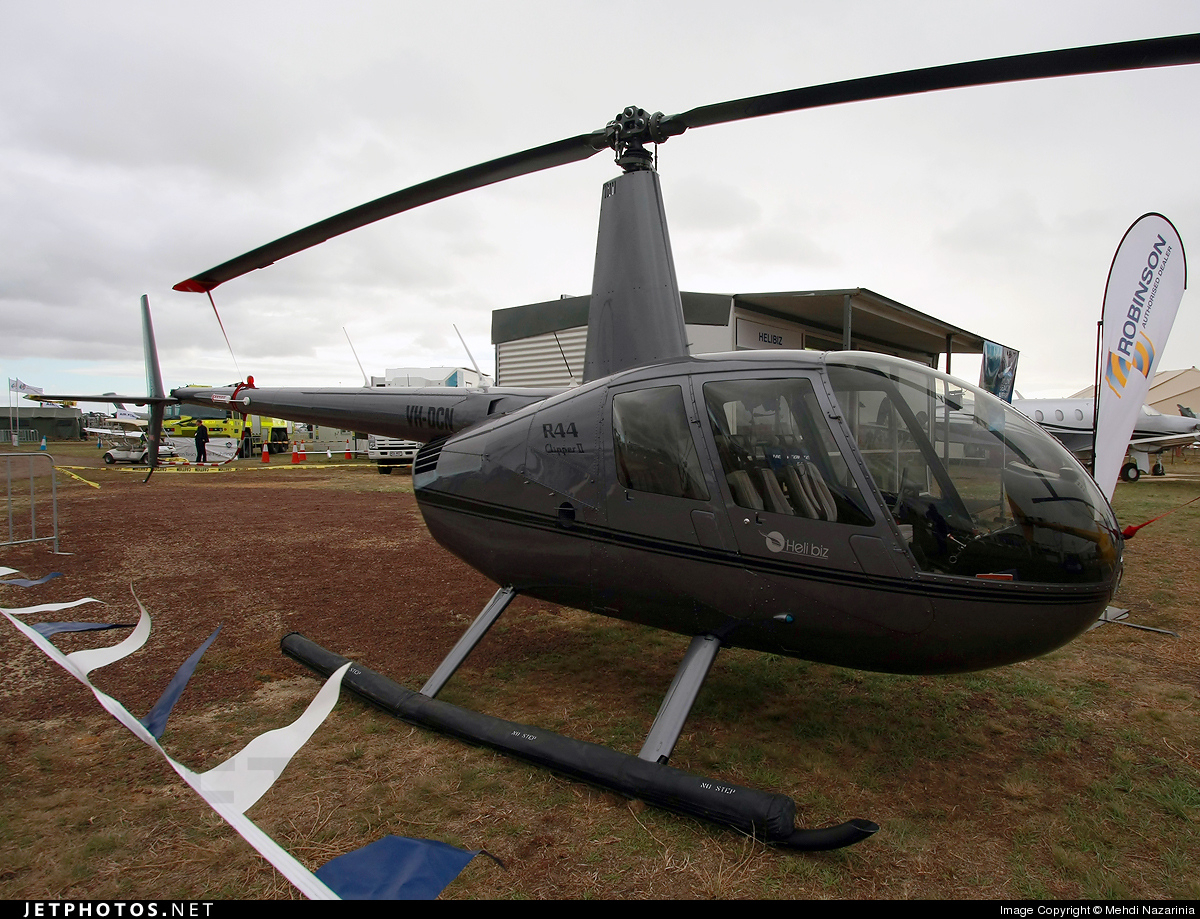number: (400, 403, 461, 433)
